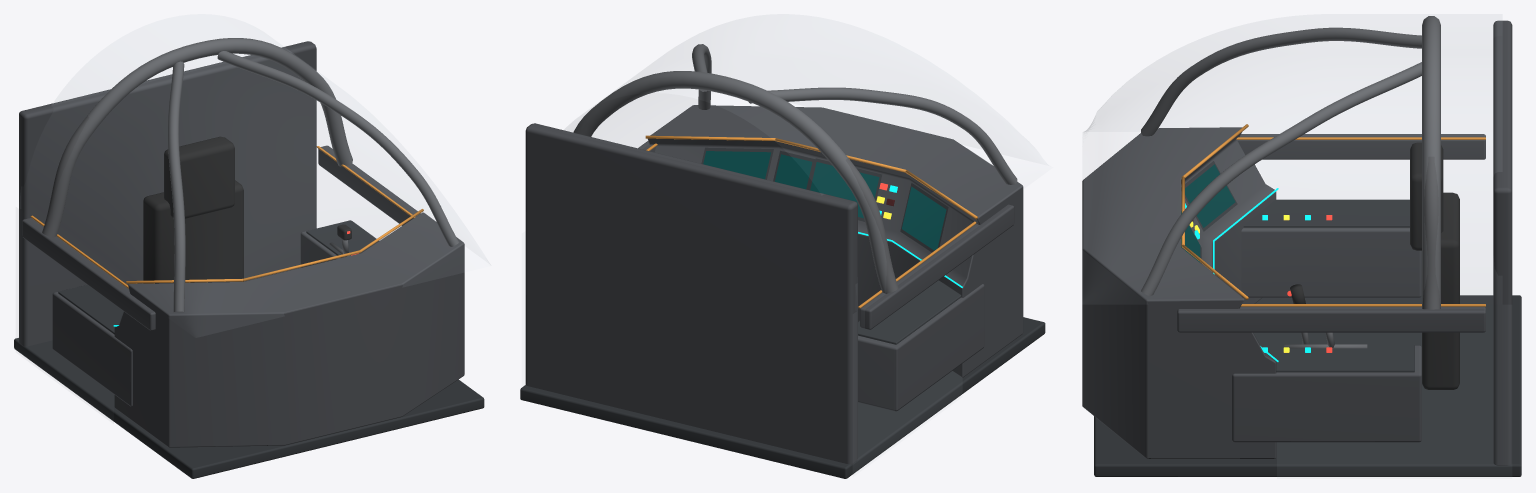
File: cockpit.glb
3 views of the same model, side by side, from view 1: azimuth 30°, elevation 25°; view 2: azimuth 150°, elevation 25°; view 3: azimuth 270°, elevation 25° (orthographic). The views are drawn at different scales.
Parts seen in each view (by area): view 1: Dashboard, Bulkhead, Floor, RearHoop, SeatBack, Console_L, Canopy_Glass, Headrest, Pillar_R, Sill_L, Pillar_L, Sill_R (+3 smaller); view 2: Bulkhead, Dashboard, Canopy_Glass, Floor, Console_L, RearHoop, Sill_L, Pillar_L, ConsoleTop_L, Screen_Status, Screen_Nav, Screen_Speed (+2 smaller); view 3: Dashboard, Canopy_Glass, Floor, Console_R, Console_L, Bulkhead, Sill_R, RearHoop, Pillar_R, Sill_L, Pillar_L, ConsoleTop_L (+6 smaller).
Part boxes in pixels (x1,y1,x2,y2): Dashboard: [114, 212, 464, 447]; Bulkhead: [19, 41, 316, 346]; Floor: [14, 338, 484, 478]; RearHoop: [42, 38, 352, 237]; SeatBack: [143, 180, 243, 283]; Console_L: [52, 284, 132, 406]; Canopy_Glass: [280, 44, 489, 263]; Headrest: [164, 136, 234, 218]; Pillar_R: [217, 51, 459, 246]; Sill_L: [22, 218, 155, 330]; Pillar_L: [168, 61, 185, 312]; Sill_R: [318, 145, 420, 225]; Bulkhead: [525, 123, 857, 464]; Dashboard: [648, 105, 1023, 377]; Canopy_Glass: [592, 14, 1048, 165]; Floor: [520, 317, 1045, 478]; Console_L: [858, 284, 984, 411]; RearHoop: [573, 71, 898, 293]; Sill_L: [860, 204, 1014, 329]; Pillar_L: [748, 87, 1017, 184]; ConsoleTop_L: [858, 280, 961, 344]; Screen_Status: [902, 186, 946, 250]; Screen_Nav: [703, 151, 770, 179]; Screen_Speed: [810, 162, 879, 218]; Dashboard: [1082, 127, 1276, 458]; Canopy_Glass: [1084, 14, 1501, 132]; Floor: [1094, 295, 1521, 476]; Console_R: [1232, 345, 1421, 442]; Console_L: [1241, 227, 1421, 297]; Bulkhead: [1493, 20, 1512, 465]; Sill_R: [1177, 306, 1485, 332]; RearHoop: [1422, 16, 1440, 309]; Pillar_R: [1141, 62, 1421, 296]; Sill_L: [1237, 134, 1485, 159]; Pillar_L: [1141, 27, 1421, 136]; ConsoleTop_L: [1243, 199, 1409, 227].
Bounding box in the file's own units: 1.79 × 1.67 × 1.85.
